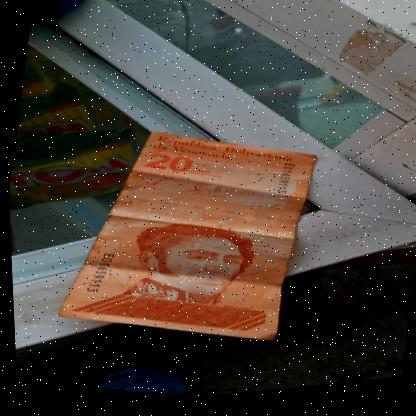twenty-front-vef: (45, 16, 293, 306)
